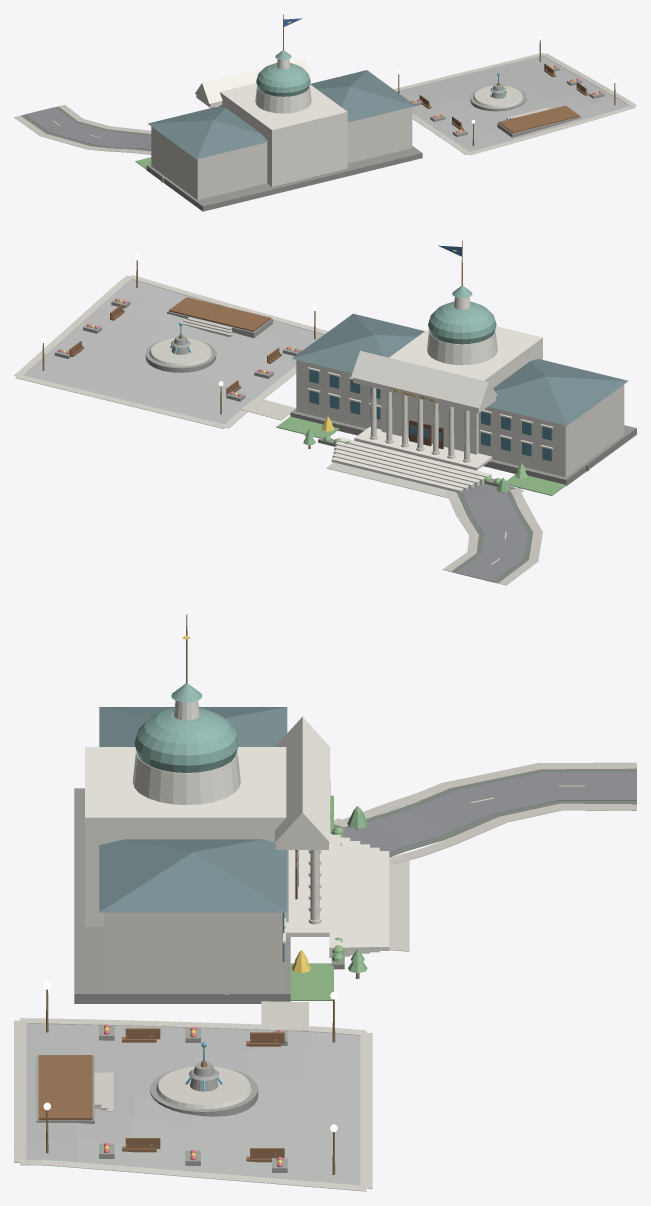
The model's file is civic-center.glb.
The picture shows the model from 3 angles, top to bottom: view 1: azimuth 30°, elevation 25°; view 2: azimuth 150°, elevation 25°; view 3: azimuth 270°, elevation 25°; orthographic projection. The views are drawn at different scales.
Parts seen in each view (by area): view 1: civic_square_terrain.001, cityhall_center.001, cityhall_left_wing.001, cityhall_left_roof.001, cityhall_embedded_foundation.001, cityhall_right_roof.001, cityhall_right_wing.001, cityhall_road.001, cityhall_dome.001, cityhall_pediment.001, civic_stage_deck.001, cityhall_drum.001 (+10 smaller); view 2: civic_square_terrain.001, cityhall_left_wing.001, cityhall_center.001, cityhall_left_roof.001, cityhall_road.001, cityhall_pediment.001, cityhall_right_roof.001, cityhall_right_wing.001, cityhall_dome.001, cityhall_embedded_foundation.001, civic_stage_deck.001, cityhall_portico_floor.001 (+21 smaller); view 3: civic_square_terrain.001, cityhall_center.001, cityhall_right_wing.001, cityhall_right_roof.001, cityhall_road.001, cityhall_embedded_foundation.001, cityhall_pediment.001, cityhall_dome.001, cityhall_left_roof.001, civic_stage_deck.001, cityhall_drum.001, cityhall_portico_floor.001 (+18 smaller).
Part boxes in pixels (box(x1,y1,x2,y2)): civic_square_terrain.001: box(397, 56, 628, 151); cityhall_center.001: box(219, 83, 347, 186); cityhall_left_wing.001: box(151, 126, 267, 200); cityhall_left_roof.001: box(148, 106, 267, 159); cityhall_embedded_foundation.001: box(146, 146, 422, 211); cityhall_right_roof.001: box(310, 70, 415, 122); cityhall_right_wing.001: box(347, 107, 412, 163); cityhall_road.001: box(24, 107, 151, 149); cityhall_dome.001: box(256, 63, 310, 96); cityhall_pediment.001: box(195, 58, 311, 103); civic_stage_deck.001: box(498, 105, 579, 133); cityhall_drum.001: box(255, 85, 311, 113); civic_square_terrain.001: box(23, 279, 323, 424); cityhall_left_wing.001: box(478, 384, 624, 477); cityhall_center.001: box(381, 326, 542, 454); cityhall_left_roof.001: box(488, 359, 628, 425); cityhall_road.001: box(456, 483, 527, 581); cityhall_pediment.001: box(351, 350, 497, 408); cityhall_right_roof.001: box(292, 313, 424, 373); cityhall_right_wing.001: box(296, 360, 381, 429); cityhall_dome.001: box(428, 301, 496, 344); cityhall_embedded_foundation.001: box(290, 409, 636, 486); civic_stage_deck.001: box(169, 297, 271, 331); cityhall_portico_floor.001: box(354, 427, 492, 470); civic_square_terrain.001: box(26, 1023, 360, 1185); cityhall_center.001: box(85, 747, 288, 926); cityhall_right_wing.001: box(104, 912, 282, 991); cityhall_right_roof.001: box(99, 839, 287, 912); cityhall_road.001: box(334, 772, 636, 852); cityhall_embedded_foundation.001: box(74, 788, 290, 1003); cityhall_pediment.001: box(275, 716, 330, 842); cityhall_dome.001: box(134, 708, 239, 772); cityhall_left_roof.001: box(99, 707, 287, 746); civic_stage_deck.001: box(38, 1055, 92, 1120); cityhall_drum.001: box(132, 751, 240, 804); cityhall_portico_floor.001: box(284, 843, 329, 936).
Size of the model in its own units: 94.8 by 29.71 by 57.59.
